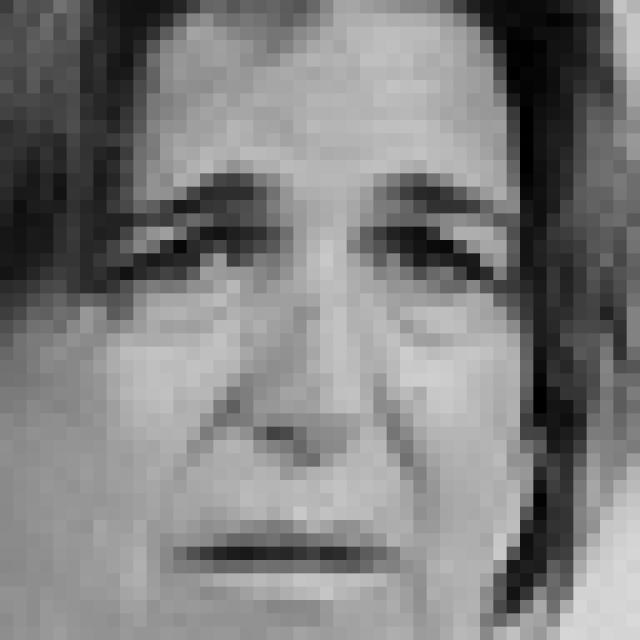sad: (79, 163, 516, 618)
